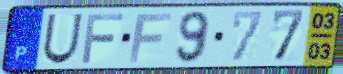7: (271, 9, 307, 64), (230, 9, 264, 64)
9: (175, 9, 212, 65)
F: (127, 11, 175, 64), (80, 12, 126, 65)
U: (40, 12, 85, 66)
